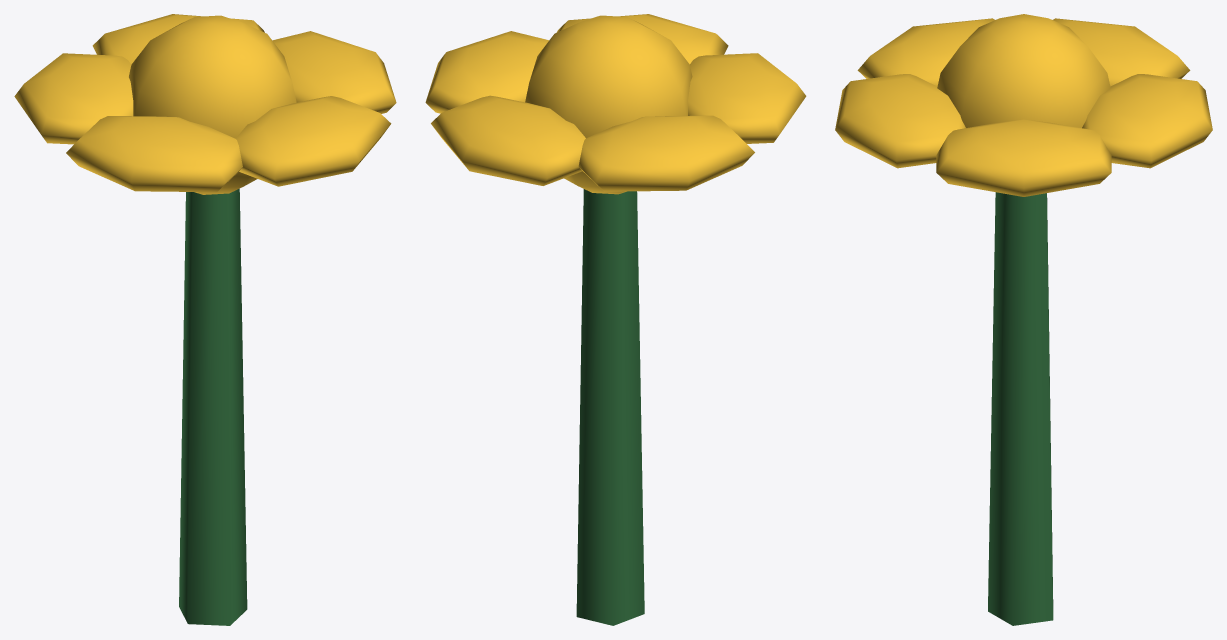
The model's file is flower_yellowA.glb.
3 renders of one model, left to right at view 1: azimuth 30°, elevation 25°; view 2: azimuth 150°, elevation 25°; view 3: azimuth 270°, elevation 25°, orthographic.
Visible parts, largest first — view 1: Flower_Yellow; view 2: Flower_Yellow; view 3: Flower_Yellow.
Boxes of the visible parts, x1=… form: Flower_Yellow: x1=14, y1=14, x2=396, y2=625; Flower_Yellow: x1=425, y1=14, x2=806, y2=625; Flower_Yellow: x1=835, y1=14, x2=1212, y2=625.
Bounding box in the file's own units: 0.4226 × 0.72 × 0.4185.
